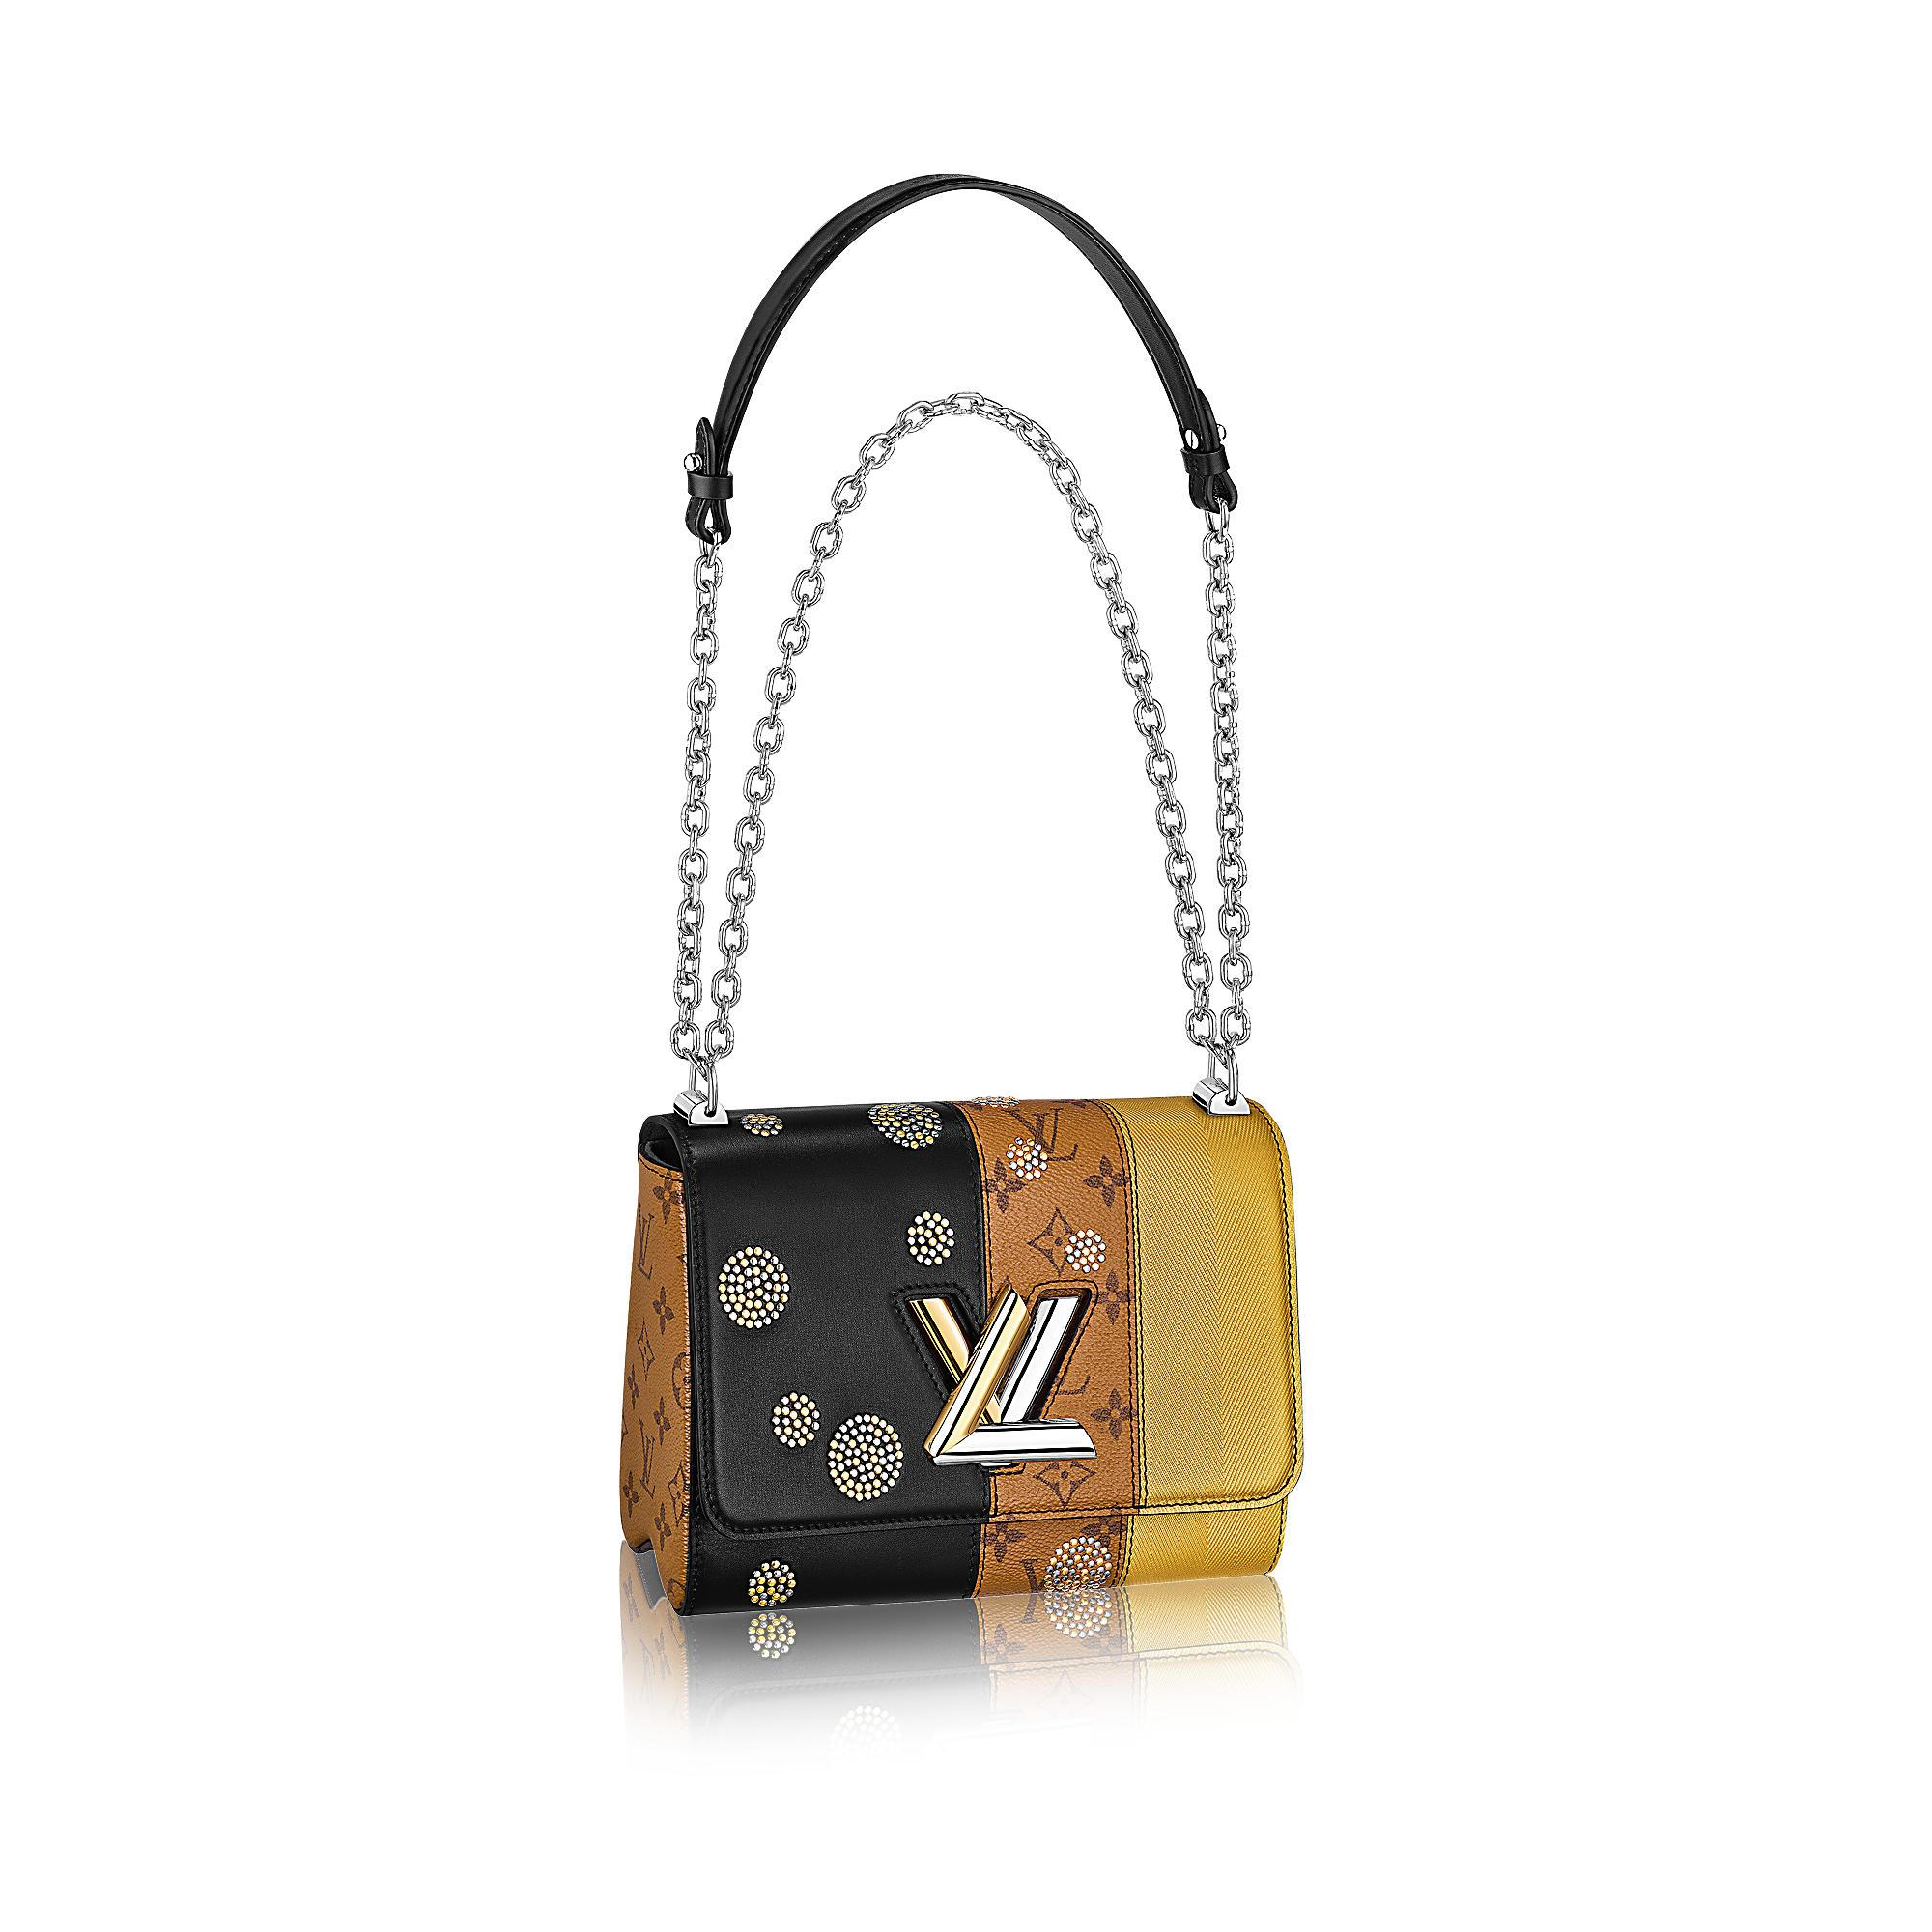LOUIS-VUITTON: (901, 1279, 1100, 1472), (1000, 1102, 1077, 1166), (632, 1415, 658, 1500)
